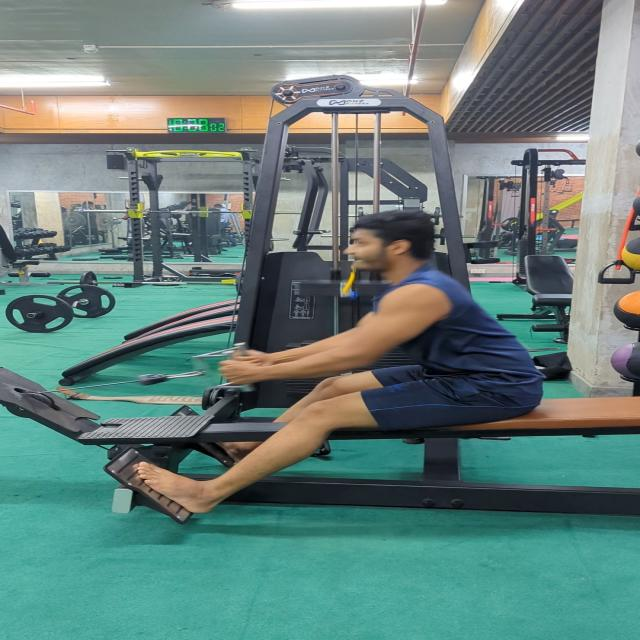Normal_RowingMachineExercise: (132, 207, 549, 514)
